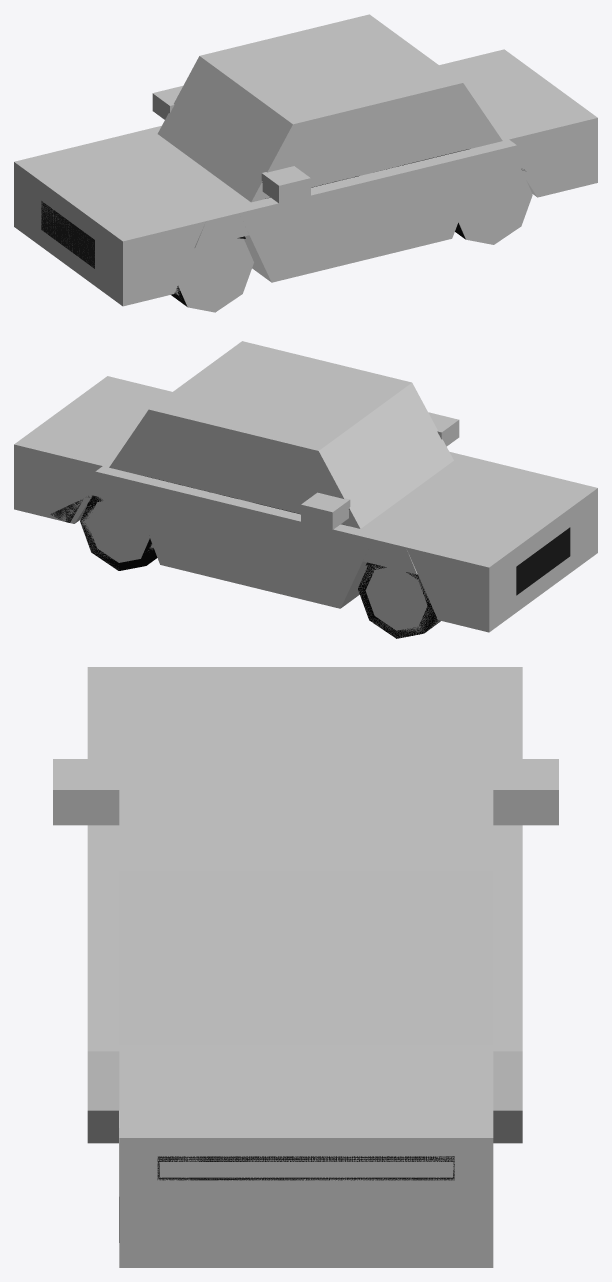
Rendered from SM_Car_04.fbx.
The picture shows the model from 3 angles, top to bottom: view 1: azimuth 30°, elevation 25°; view 2: azimuth 150°, elevation 25°; view 3: azimuth 270°, elevation 25°; orthographic projection. The views are drawn at different scales.
Parts seen in each view (by area): view 1: SM_Car_04_ConvexHulls, SM_Car_04; view 2: SM_Car_04_ConvexHulls, SM_Car_04; view 3: SM_Car_04_ConvexHulls, SM_Car_04.
Part boxes in pixels (x1=…): SM_Car_04_ConvexHulls: x1=14, y1=14, x2=597, y2=312; SM_Car_04: x1=41, y1=149, x2=524, y2=306; SM_Car_04_ConvexHulls: x1=14, y1=341, x2=597, y2=638; SM_Car_04: x1=50, y1=476, x2=570, y2=638; SM_Car_04_ConvexHulls: x1=53, y1=667, x2=558, y2=1267; SM_Car_04: x1=157, y1=1156, x2=454, y2=1180.
Size of the model in its own units: 475 by 216 by 159.
Materials: 2 (1 with a texture image).
